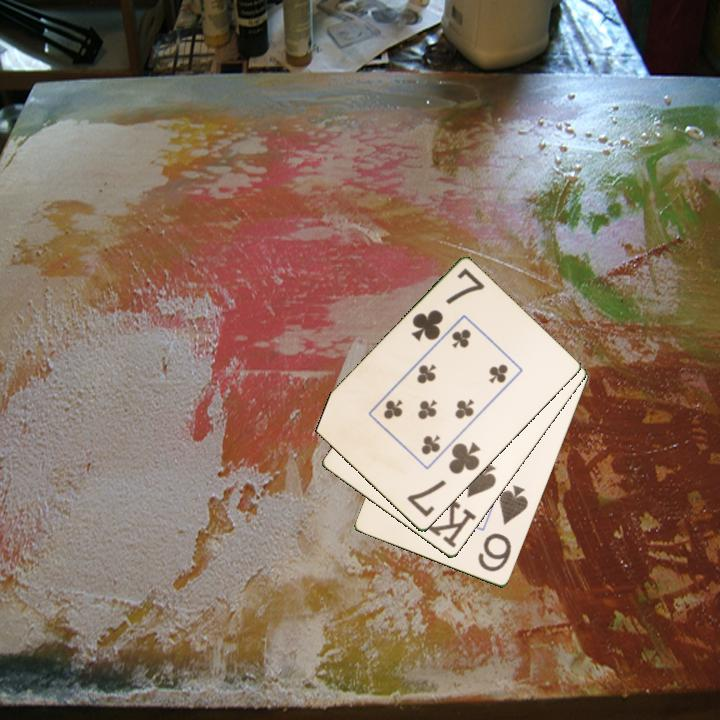6s: (474, 482, 531, 575)
7c: (403, 439, 484, 521), (407, 265, 488, 345)
Ks: (424, 458, 500, 551)
